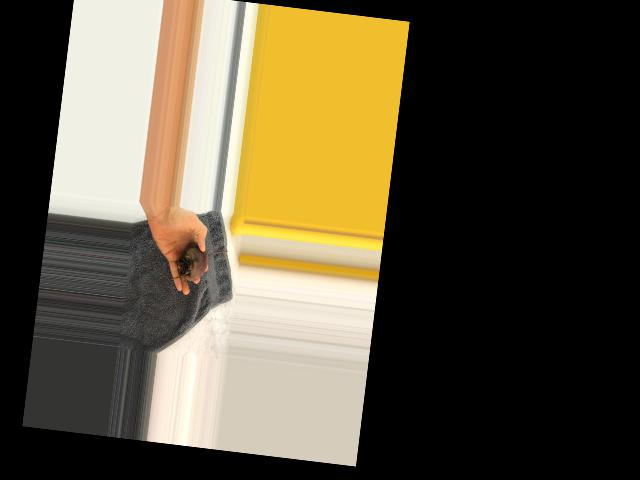beet: (174, 240, 228, 284)
